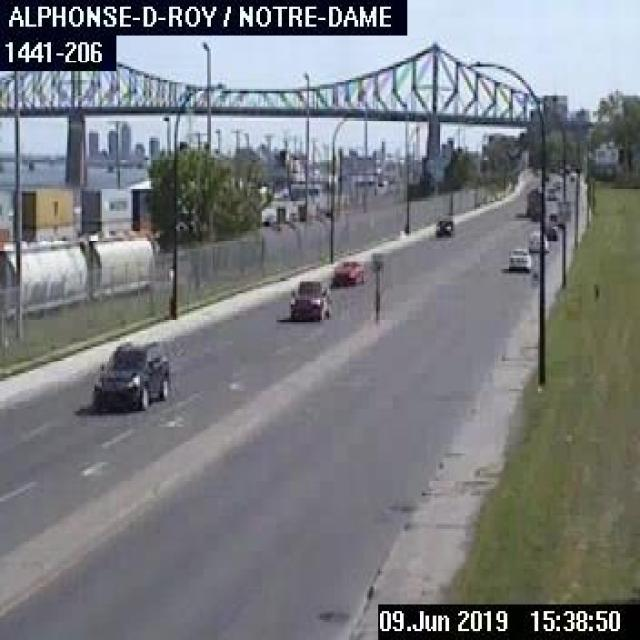vehicle: (89, 336, 171, 411), (287, 278, 330, 321), (329, 258, 364, 286), (506, 246, 532, 270), (524, 184, 540, 213), (433, 214, 454, 236), (526, 230, 547, 252)
